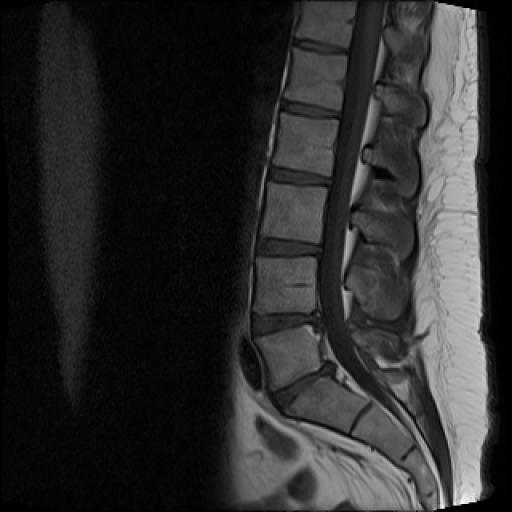L1: (284, 47, 347, 110)
L2: (273, 113, 339, 176)
L3: (261, 182, 327, 244)
L4: (254, 257, 317, 314)
L5: (256, 326, 320, 390)
S1: (285, 376, 368, 432)
